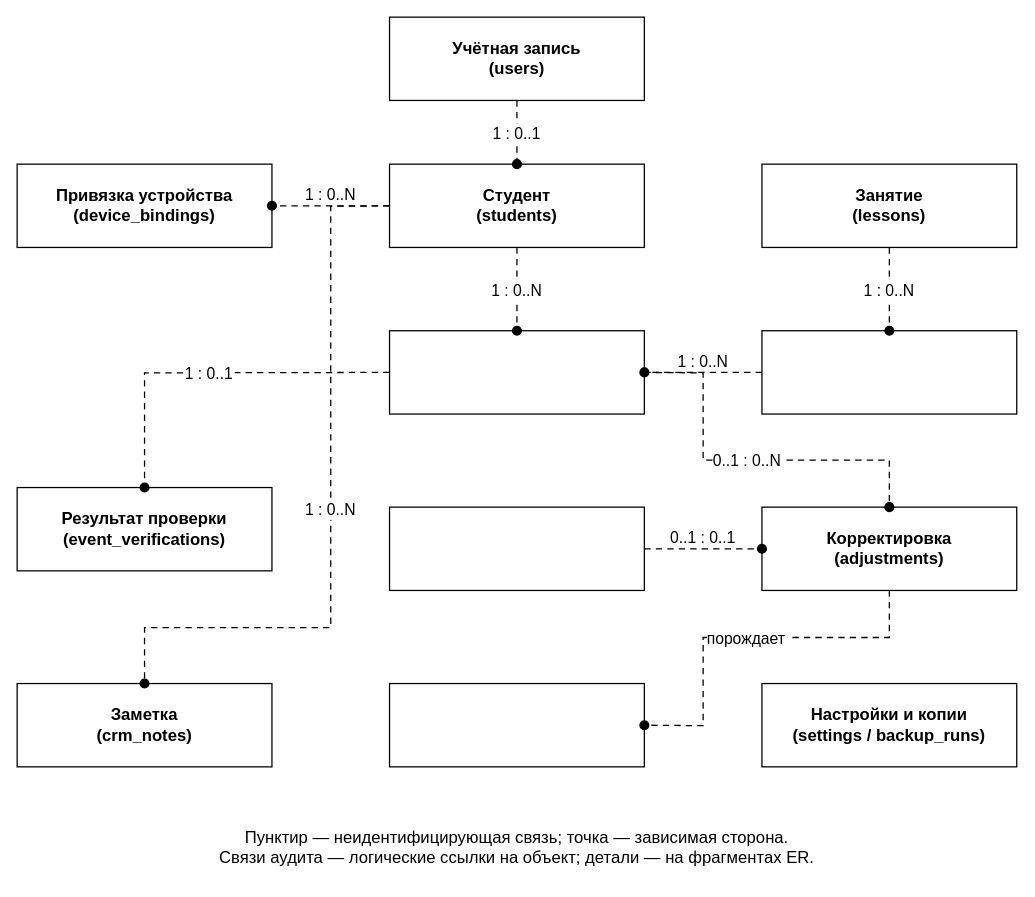
Some shapes in this 1035 by 897 pixel diagram are drawn without their labels. Here are the shapes that lost their labels. From the top down, the centre of each, then its label:
[516,372]: Исходная отметка (attendance_events)
[889,372]: Состав занятия (lesson_roster)
[516,548]: Запрос исправления (correction_requests)
[516,724]: Запись аудита (audit_events)
